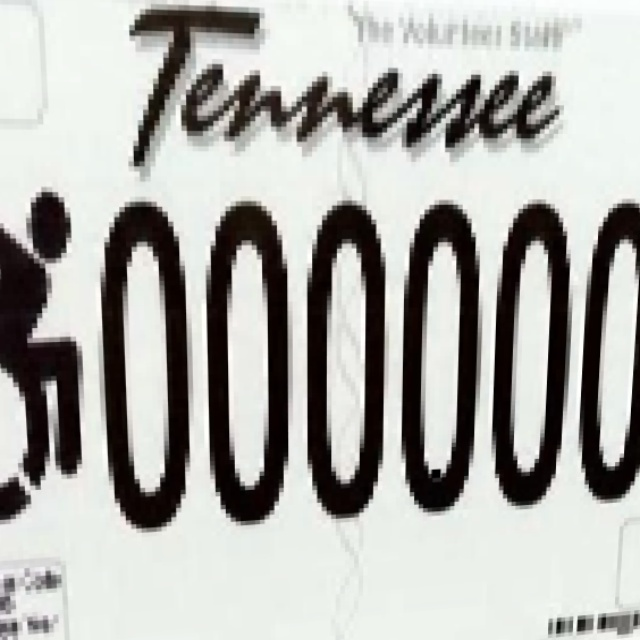ISA: (0, 175, 88, 534)
